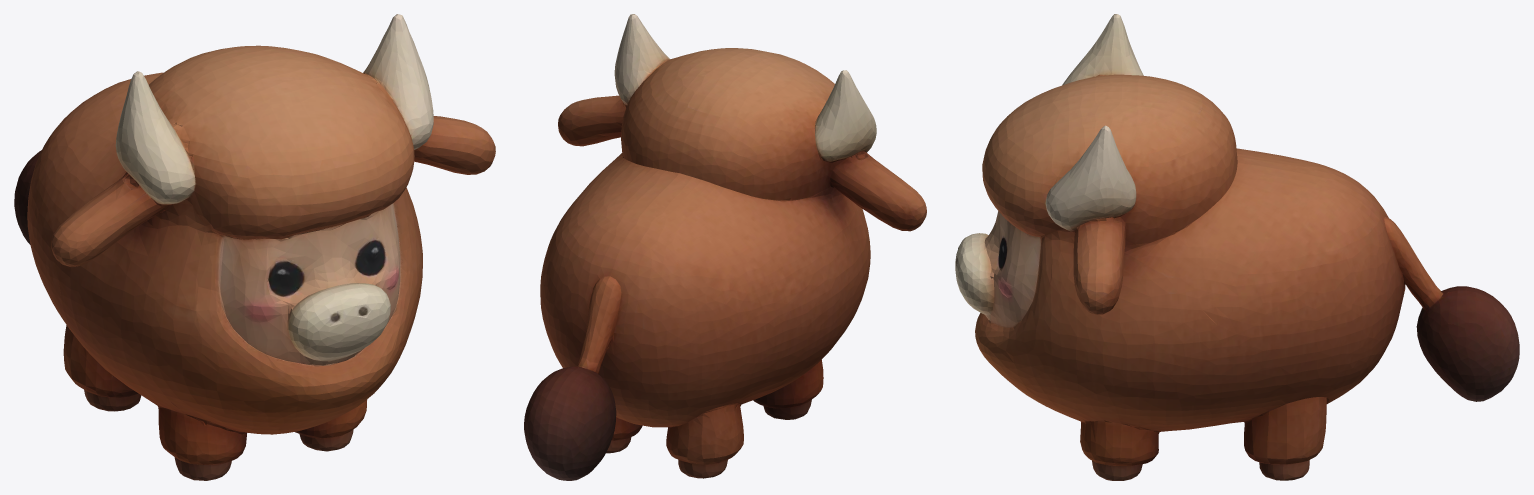
Rendered from yak.glb.
3 renders of one model, left to right at view 1: azimuth 30°, elevation 25°; view 2: azimuth 150°, elevation 25°; view 3: azimuth 270°, elevation 25°, orthographic. The views are drawn at different scales.
Visible parts, largest first — view 1: geometry_0; view 2: geometry_0; view 3: geometry_0.
Boxes of the visible parts, x1=… form: geometry_0: x1=14, y1=14, x2=495, y2=480; geometry_0: x1=524, y1=14, x2=926, y2=480; geometry_0: x1=955, y1=14, x2=1519, y2=480.
Bounding box in the file's own units: 0.7986 × 0.7355 × 0.9986.
Materials: 1 (1 with a texture image).
